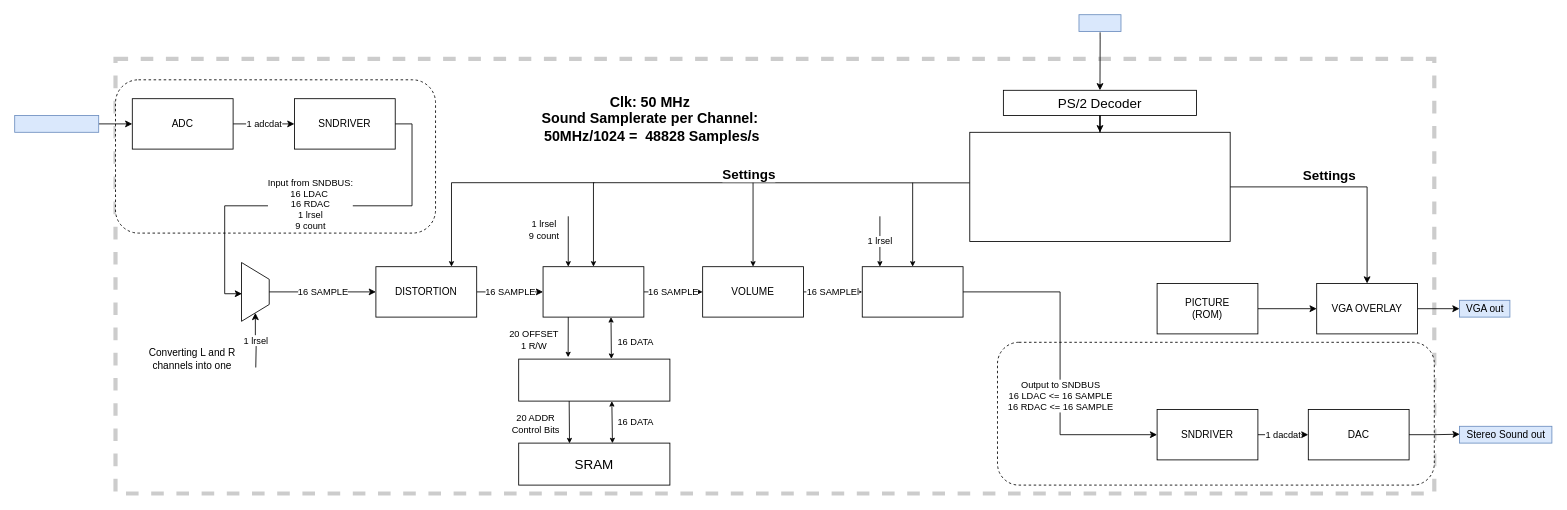
The diagram is 1567 pixels wide and 510 high, and some of its shapes have lost their labels. The shapes that lost their labels are listed below. From the top down, each one's centre as x and y in pixels, then its label:
pixel 1099 23: PS/2 in
pixel 56 123: Stereo Sound in
pixel 1099 186: CONTROL REGISTERS: VOLUME BALANCE ECHO_DELAY ECHO_VOL ECHO_COPIES DIST_CUTOFF
pixel 593 291: ECHO GENERATOR
pixel 912 291: BALANCE
pixel 594 379: SRAM Controller
